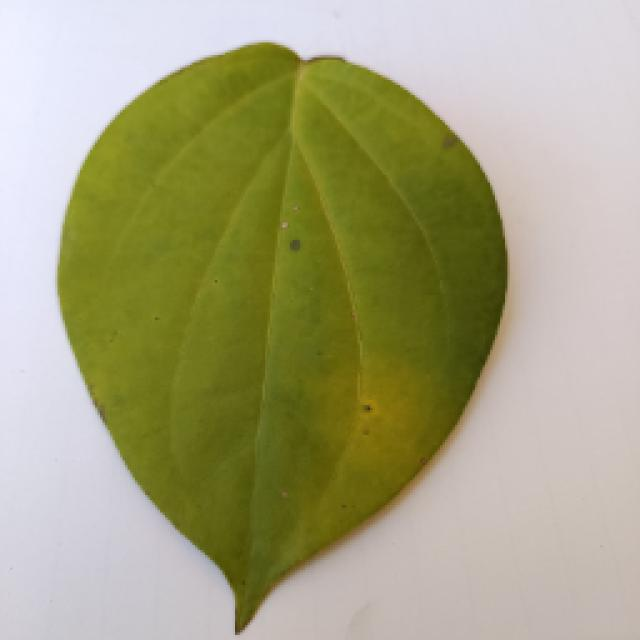slow-decline: (55, 42, 503, 630)
